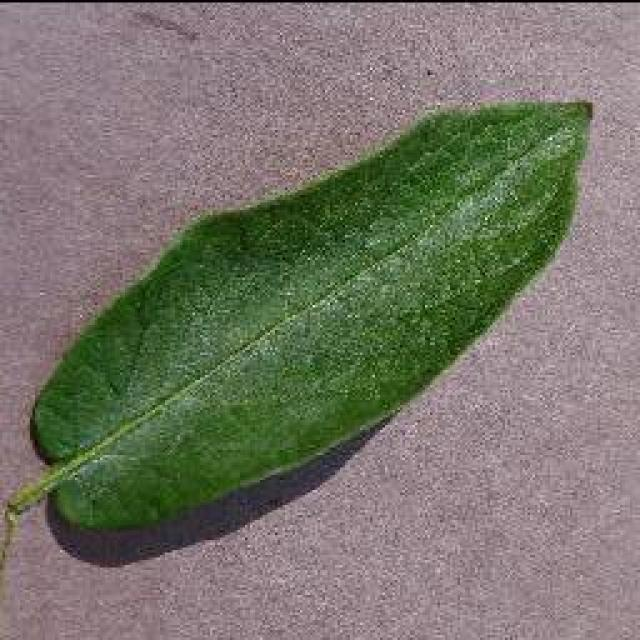Potato___healthy: (0, 100, 589, 569)
